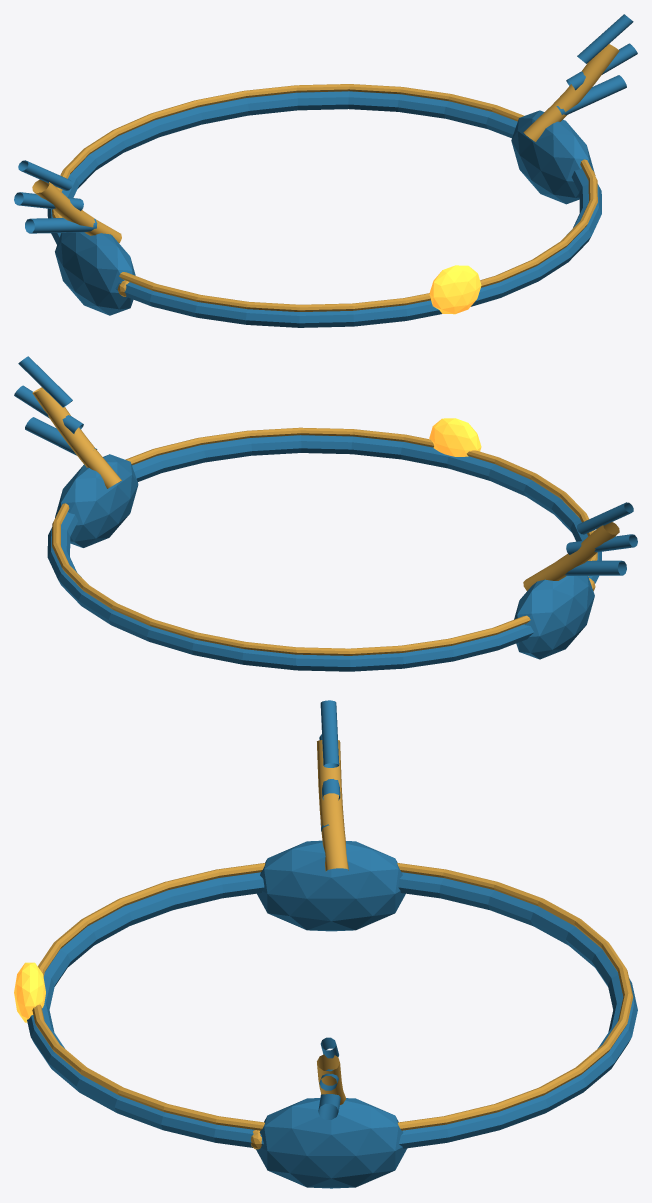
The model's file is helmet_horizon.glb.
3 views of the same model, one above another, from view 1: azimuth 30°, elevation 25°; view 2: azimuth 150°, elevation 25°; view 3: azimuth 270°, elevation 25° (orthographic). The views are drawn at different scales.
Visible parts, largest first — view 1: HorizonCirclet, GoldTrim, TempleGuard, TempleGuard.001, FrontGem, WingSpine.001, WingSpine, FeatherA, FeatherA.001, FeatherC.001, FeatherC, FeatherB (+1 smaller); view 2: HorizonCirclet, GoldTrim, TempleGuard, TempleGuard.001, WingSpine.001, WingSpine, FrontGem, FeatherC.001, FeatherA, FeatherC, FeatherA.001, FeatherB (+1 smaller); view 3: HorizonCirclet, GoldTrim, TempleGuard.001, TempleGuard, WingSpine, FrontGem, FeatherC, WingSpine.001.
Part boxes in pixels (x1,y1,x2,y2): HorizonCirclet: (47,91,601,327); GoldTrim: (52,84,597,311); TempleGuard: (55,232,135,315); TempleGuard.001: (511,110,594,204); FrontGem: (429,265,481,314); WingSpine.001: (523,44,619,141); WingSpine: (32,179,121,243); FeatherA: (25,218,97,233); FeatherA.001: (556,75,626,115); FeatherC.001: (577,14,633,63); FeatherC: (18,160,72,190); FeatherB: (14,192,83,210); HorizonCirclet: (47,435,601,671); GoldTrim: (52,427,597,655); TempleGuard: (514,576,594,659); TempleGuard.001: (55,454,138,547); WingSpine.001: (32,387,121,488); WingSpine: (523,522,619,590); FrontGem: (429,418,481,456); FeatherC.001: (18,356,72,407); FeatherA: (565,560,626,575); FeatherC: (577,502,633,534); FeatherA.001: (25,417,97,455); FeatherB: (566,534,637,554); HorizonCirclet: (27,872,637,1148); GoldTrim: (32,863,633,1130); TempleGuard.001: (256,1098,407,1188); TempleGuard: (257,840,405,931); WingSpine: (317,740,348,871); FrontGem: (14,962,45,1022); FeatherC: (320,700,339,767); WingSpine.001: (317,1054,345,1104).
Size of the model in its own units: 1.55 by 0.396 by 1.17.
